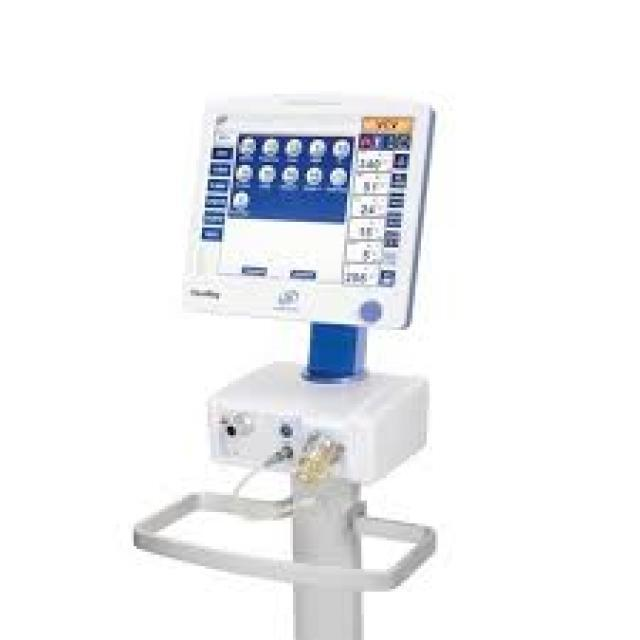ventilator: (124, 41, 501, 640)
